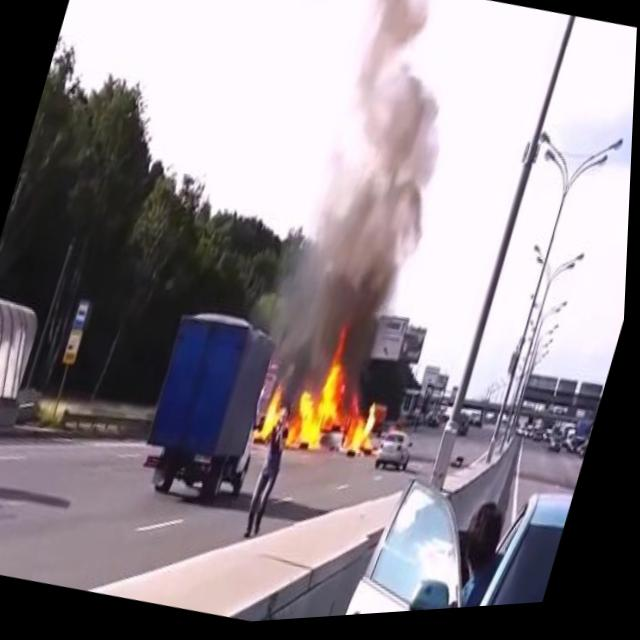fire: (255, 336, 402, 480)
